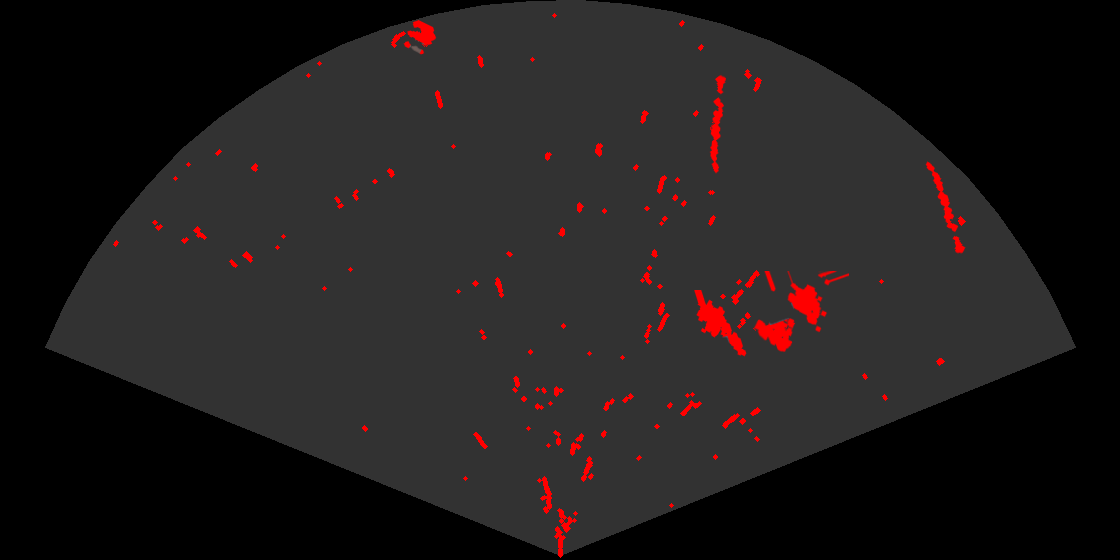ball: (402, 18, 438, 56)
cage: (753, 271, 849, 354)
chain: (924, 160, 967, 256), (708, 72, 728, 174)
frogman: (693, 290, 748, 358)
